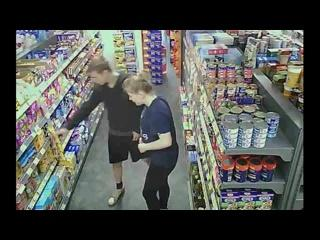Normal: (55, 60, 142, 208), (122, 73, 180, 210)
